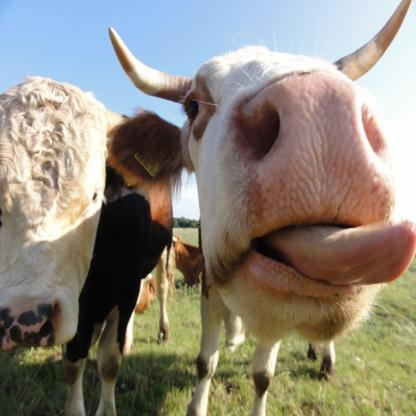cow: (107, 0, 416, 416), (0, 74, 174, 416)
